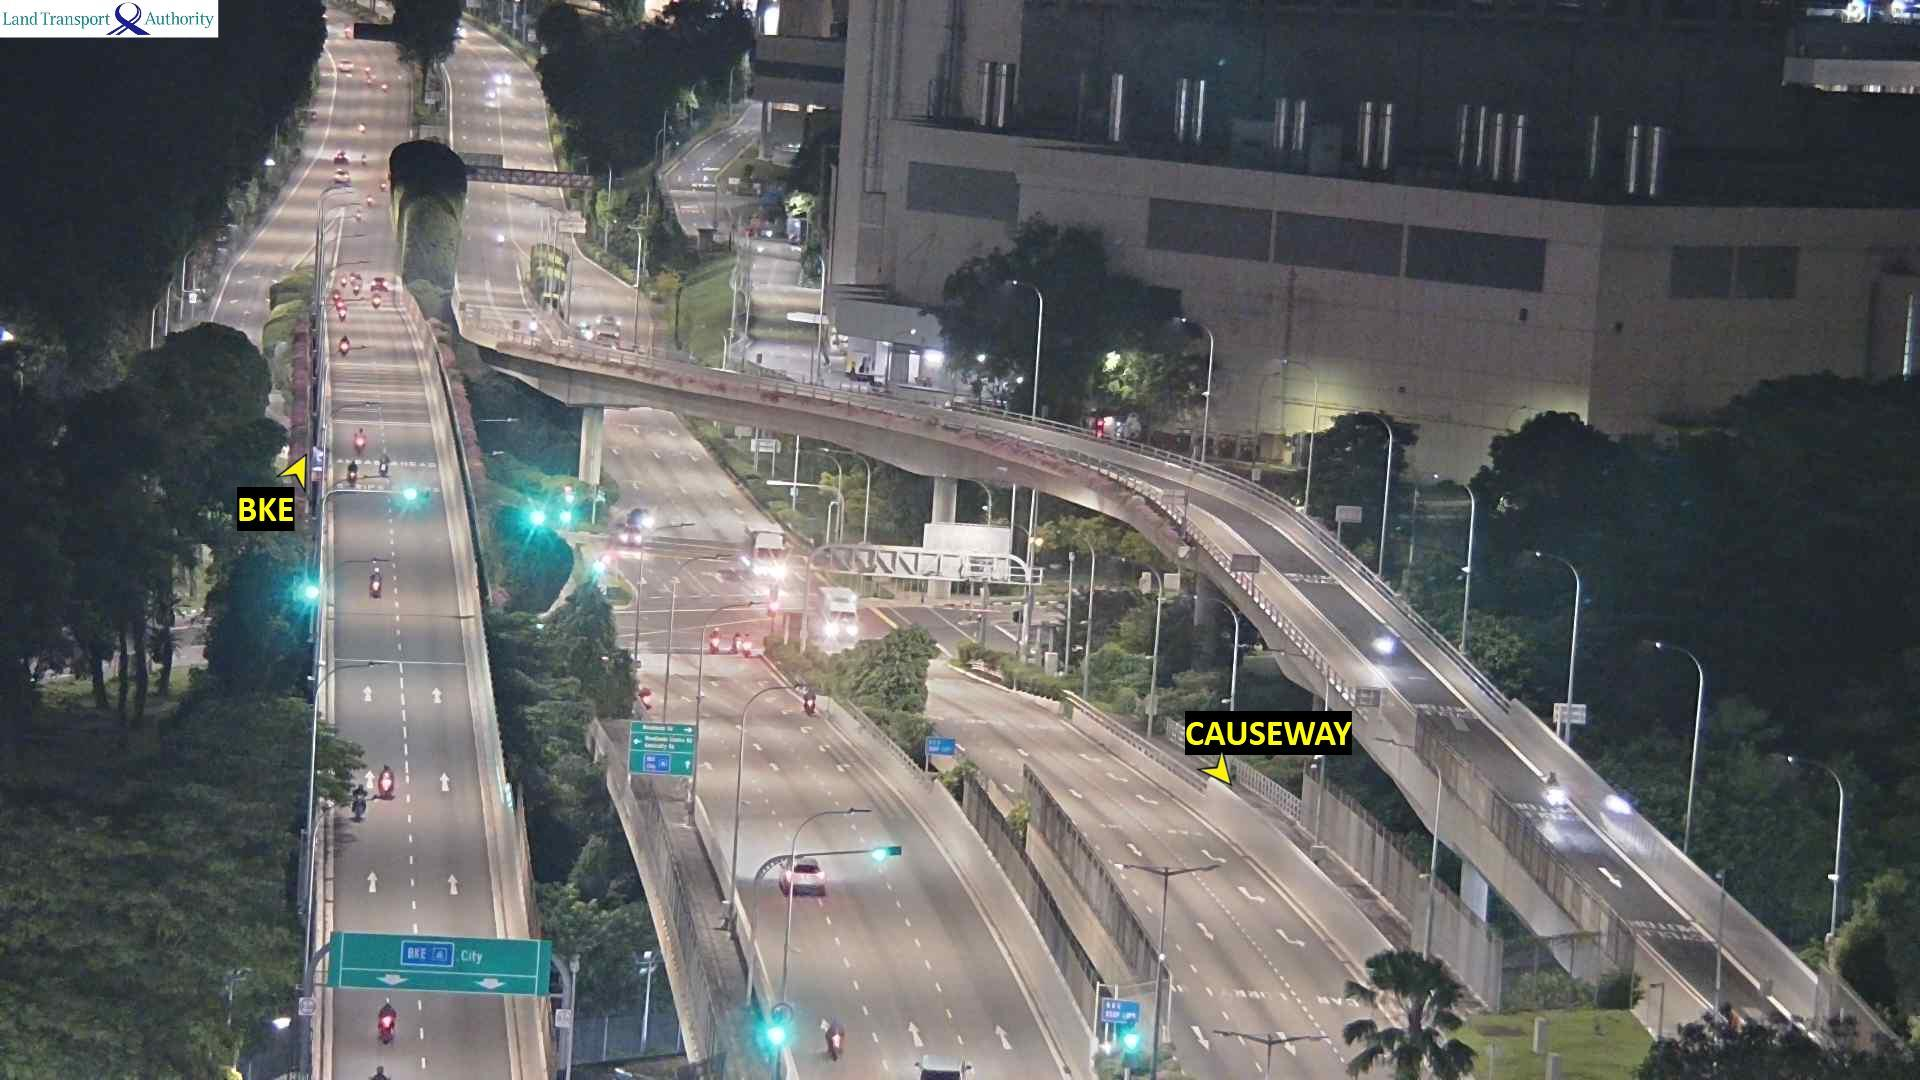vehicle-causeway-johor: (819, 586, 857, 640), (744, 521, 783, 572), (1364, 633, 1402, 663), (1543, 768, 1564, 807), (530, 316, 537, 334)
vehicle-causeway-singapore: (783, 861, 829, 899), (913, 1060, 979, 1080), (708, 636, 743, 660), (380, 1004, 400, 1044), (827, 1021, 843, 1056), (382, 765, 395, 796), (354, 785, 365, 814), (355, 427, 365, 453), (379, 453, 389, 473), (641, 687, 651, 705), (344, 473, 354, 490), (367, 581, 375, 601), (336, 155, 348, 167), (338, 175, 349, 188), (341, 341, 349, 357), (339, 307, 346, 320), (374, 295, 380, 307), (333, 290, 339, 301), (338, 298, 342, 307)
